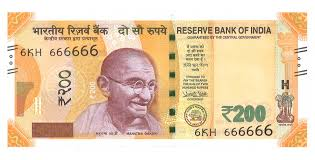twoHundred: (17, 38, 286, 128)
